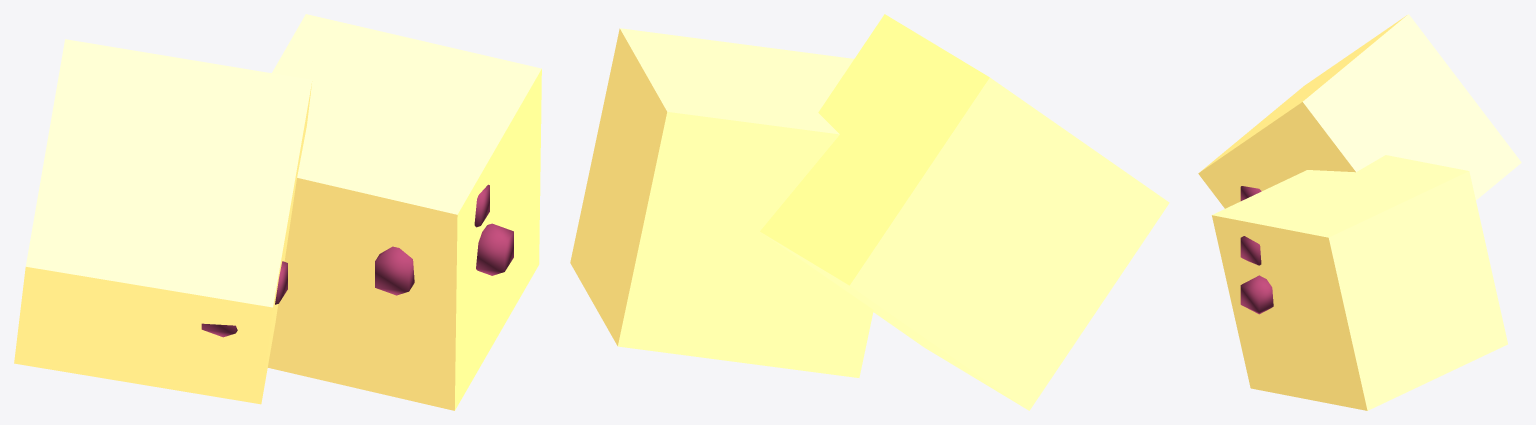
The model's file is loadeddice.glb.
3 views of the same model, side by side, from view 1: azimuth 30°, elevation 25°; view 2: azimuth 150°, elevation 25°; view 3: azimuth 270°, elevation 25° (orthographic). The views are drawn at different scales.
Size of the model in its own units: 0.6658 by 0.416 by 0.4501.
